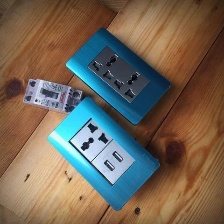three_eye_plug: (44, 93, 163, 211), (63, 24, 174, 126)
